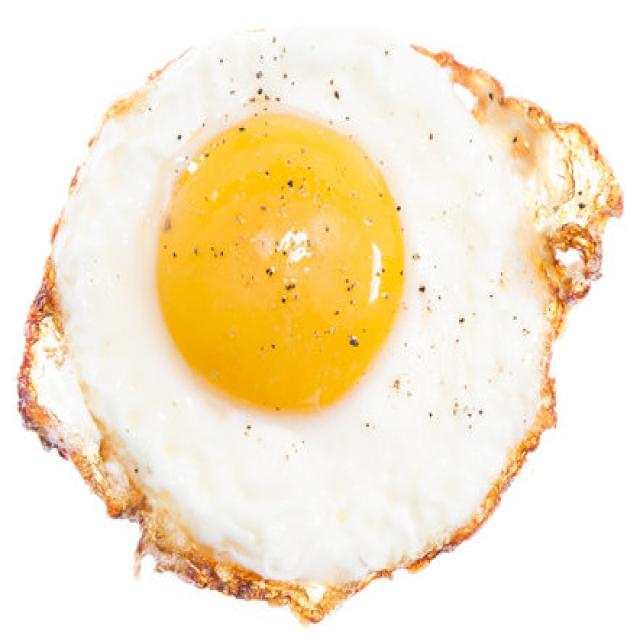Egg: (19, 31, 622, 619)
